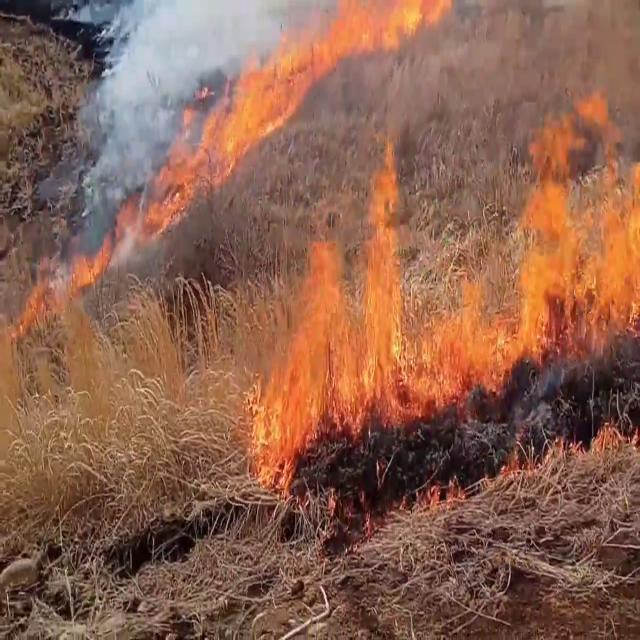Fire: (430, 80, 640, 420), (248, 130, 420, 491), (136, 12, 342, 226), (298, 0, 454, 60), (15, 241, 112, 328)
Smoke: (76, 0, 256, 194)
